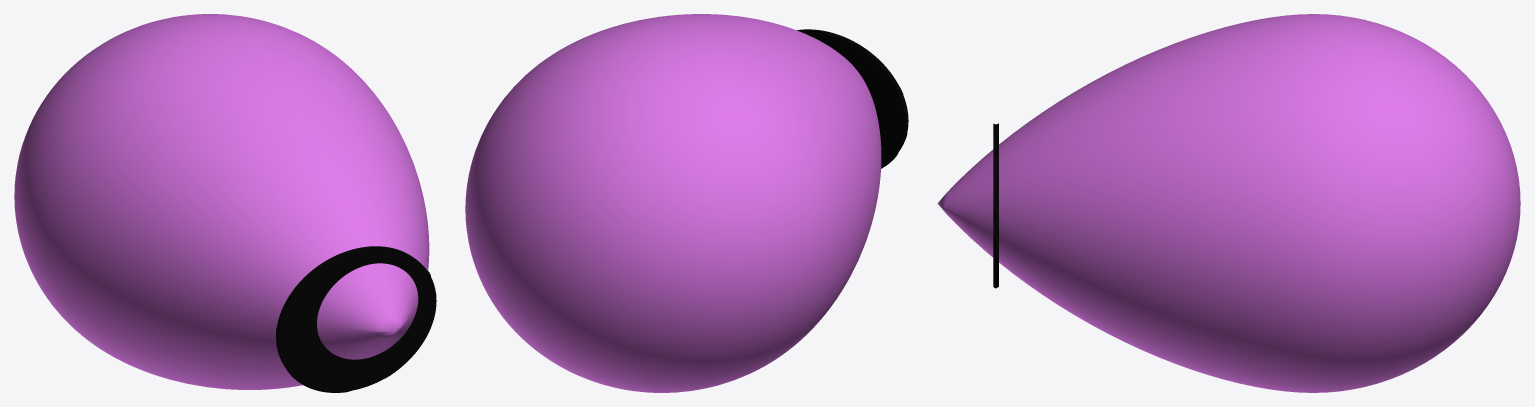
Rendered from ChewingGum.fbx.
The picture shows the model from 3 angles, left to right: view 1: azimuth 30°, elevation 25°; view 2: azimuth 150°, elevation 25°; view 3: azimuth 270°, elevation 25°; orthographic projection. The views are drawn at different scales.
Visible parts, largest first — view 1: Chewingumm; view 2: Chewingumm; view 3: Chewingumm.
Part boxes in pixels (box(x1,y1,x2,y2)): Chewingumm: box(14, 14, 436, 392); Chewingumm: box(465, 14, 908, 392); Chewingumm: box(937, 14, 1520, 392).
Size of the model in its own units: 26.81 by 24.71 by 38.61.
